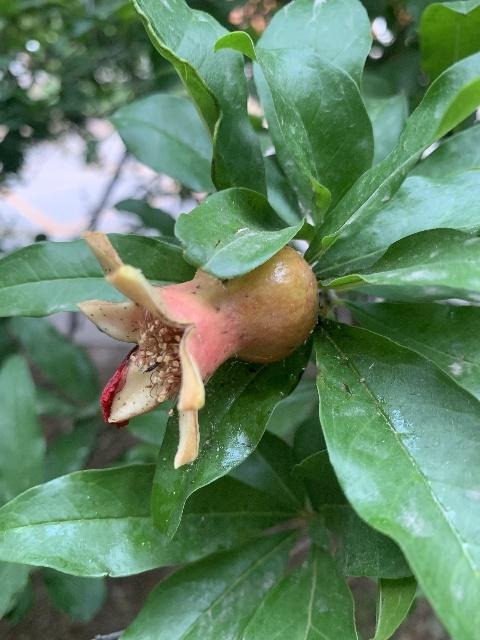early-fruit: (75, 232, 318, 473)
